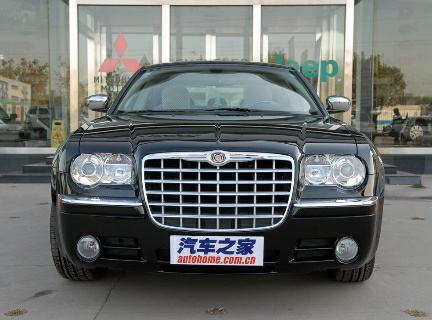克莱斯勒-300C: (43, 60, 388, 284)
